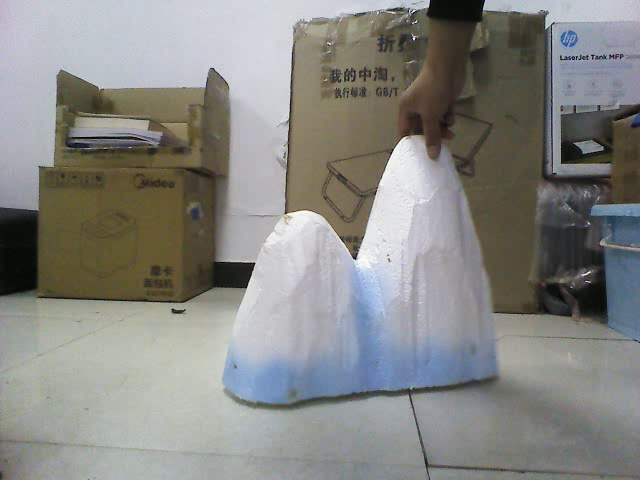iceberg: (217, 132, 505, 407)
